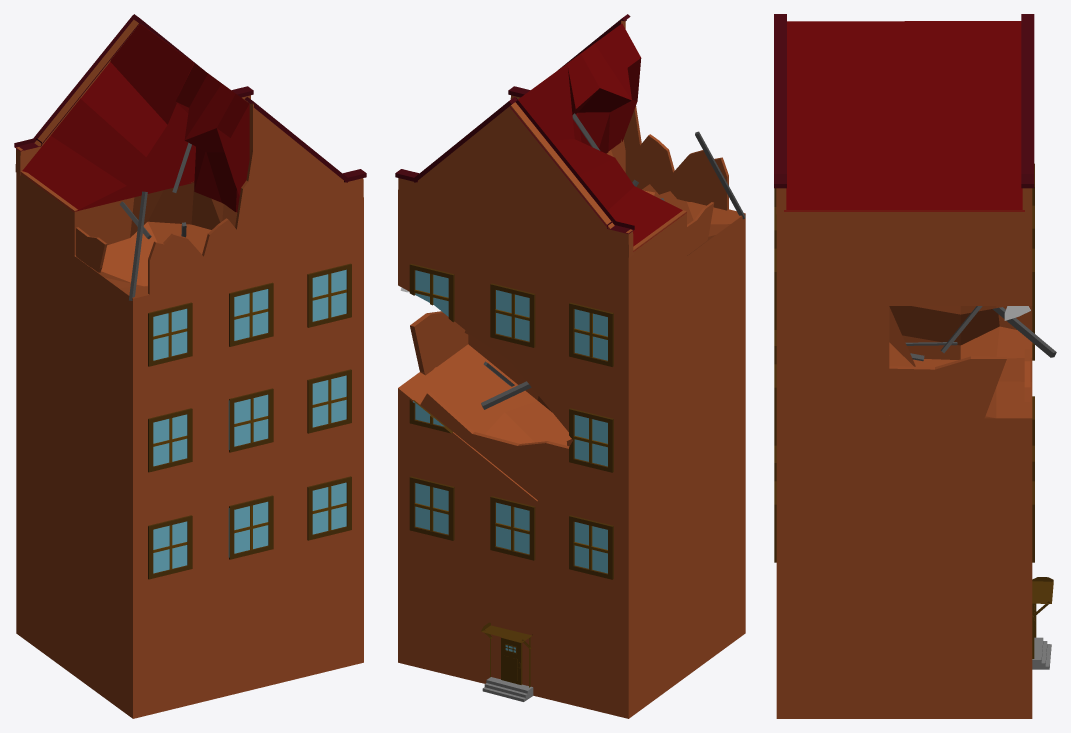
The model's file is prosty1.fbx.
3 views of the same model, side by side, from view 1: azimuth 30°, elevation 25°; view 2: azimuth 150°, elevation 25°; view 3: azimuth 270°, elevation 25° (orthographic). The views are drawn at different scales.
Visible parts, largest first — view 1: Cube.007, Cube.117, Cube.226, Cube.209, Cube.003, Cube.224, Cube.002; view 2: Cube.007, Cube.226, Cube.209, Cube.117, Cube.115, Cube.003, Cube.224, Cube.119, Cube.002, Cube.066; view 3: Cube.007, Cube.117, Cube.115, Cube.224, Cube.226, Cube.119, Cube.066, Cube.209.
Part boxes in pixels (x1,y1,x2,y2): Cube.007: (16, 171, 363, 718); Cube.117: (20, 24, 249, 212); Cube.226: (148, 263, 351, 579); Cube.209: (15, 19, 363, 228); Cube.003: (76, 148, 253, 295); Cube.224: (14, 14, 366, 182); Cube.002: (119, 142, 191, 300); Cube.007: (398, 140, 745, 718); Cube.226: (409, 263, 613, 579); Cube.209: (398, 20, 633, 257); Cube.117: (518, 23, 686, 251); Cube.115: (410, 311, 569, 500); Cube.003: (623, 106, 728, 255); Cube.224: (395, 14, 634, 233); Cube.119: (481, 622, 533, 701); Cube.002: (572, 113, 745, 219); Cube.066: (481, 361, 531, 409); Cube.007: (776, 210, 1032, 718); Cube.117: (784, 21, 1024, 211); Cube.115: (889, 349, 1030, 418); Cube.224: (774, 14, 1034, 188); Cube.226: (774, 163, 1034, 562); Cube.119: (1032, 577, 1053, 669); Cube.066: (905, 306, 1056, 361); Cube.209: (776, 188, 1032, 213).
Size of the model in its own units: 410 by 986 by 392.
16 materials, 16 textured.
